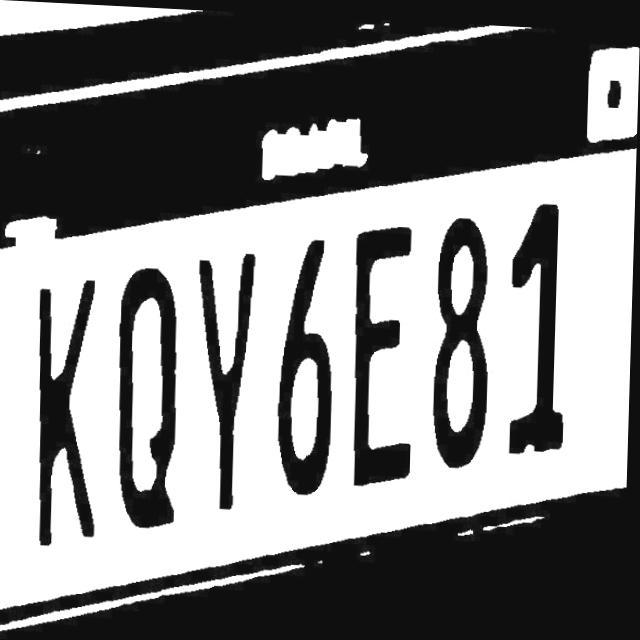1: (502, 185, 579, 487)
6: (271, 214, 344, 525)
8: (426, 194, 501, 500)
e: (347, 201, 423, 512)
k: (25, 249, 108, 573)
q: (106, 240, 191, 561)
y: (190, 219, 266, 538)
